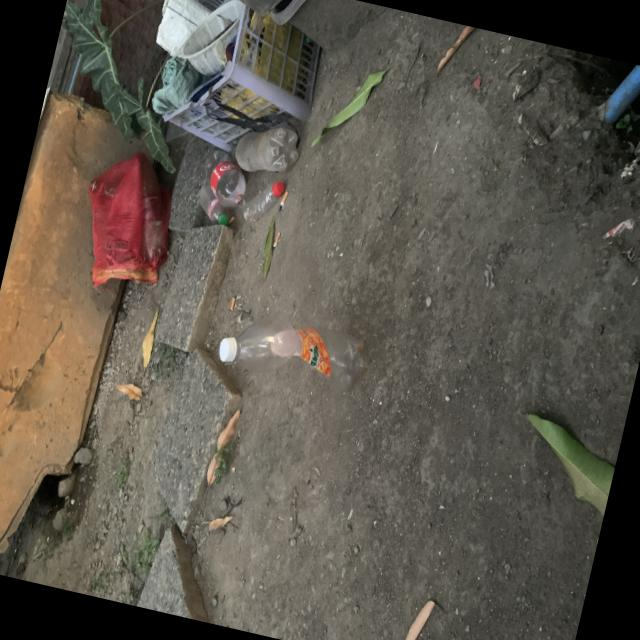Bottle: (218, 319, 363, 390)
